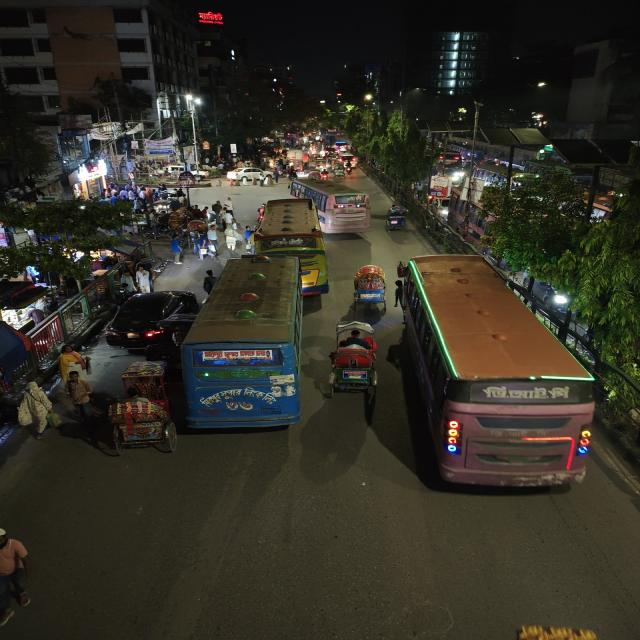bus: (396, 253, 598, 497), (178, 256, 310, 437), (250, 195, 329, 293), (296, 179, 374, 235), (289, 194, 322, 243)
car: (102, 288, 193, 350), (228, 168, 260, 181), (339, 154, 356, 166)
motorcycle: (344, 161, 354, 174)
pedestrian: (0, 500, 53, 640), (13, 377, 55, 439), (62, 371, 94, 417), (54, 343, 93, 380), (186, 220, 210, 256), (132, 262, 154, 292), (166, 232, 186, 264), (232, 223, 251, 253), (240, 224, 258, 252), (222, 225, 240, 253), (220, 208, 237, 230), (286, 177, 300, 196), (267, 171, 278, 185), (262, 174, 272, 186), (256, 175, 266, 187)
rickshaw: (94, 381, 182, 457), (322, 319, 384, 402), (348, 263, 390, 310), (383, 203, 410, 233), (334, 164, 345, 180)
truck: (288, 150, 309, 163)
